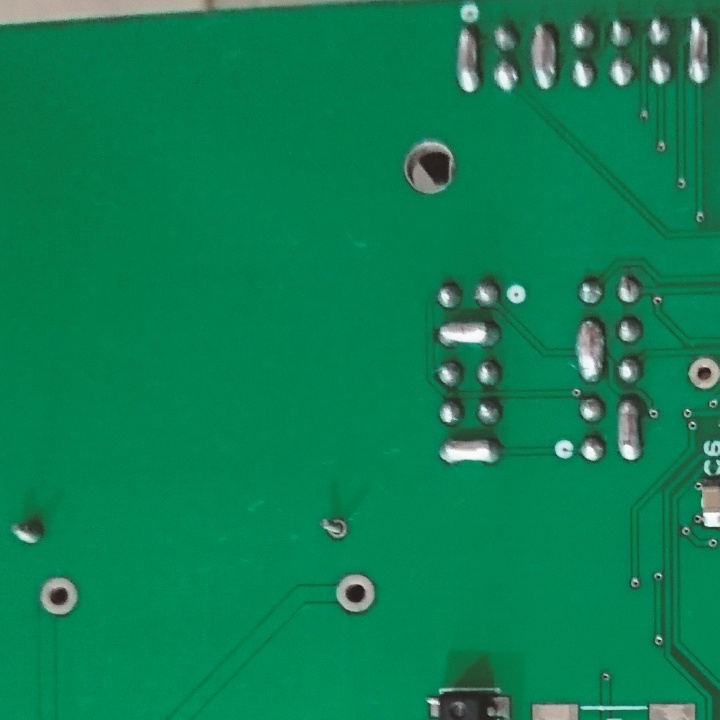F: (36, 576, 84, 618), (333, 572, 376, 617), (683, 355, 720, 392), (315, 513, 353, 543)
P: (528, 19, 564, 95), (433, 316, 503, 352), (573, 315, 608, 386), (681, 11, 713, 87), (452, 26, 482, 101), (439, 435, 506, 467), (611, 396, 643, 463)
